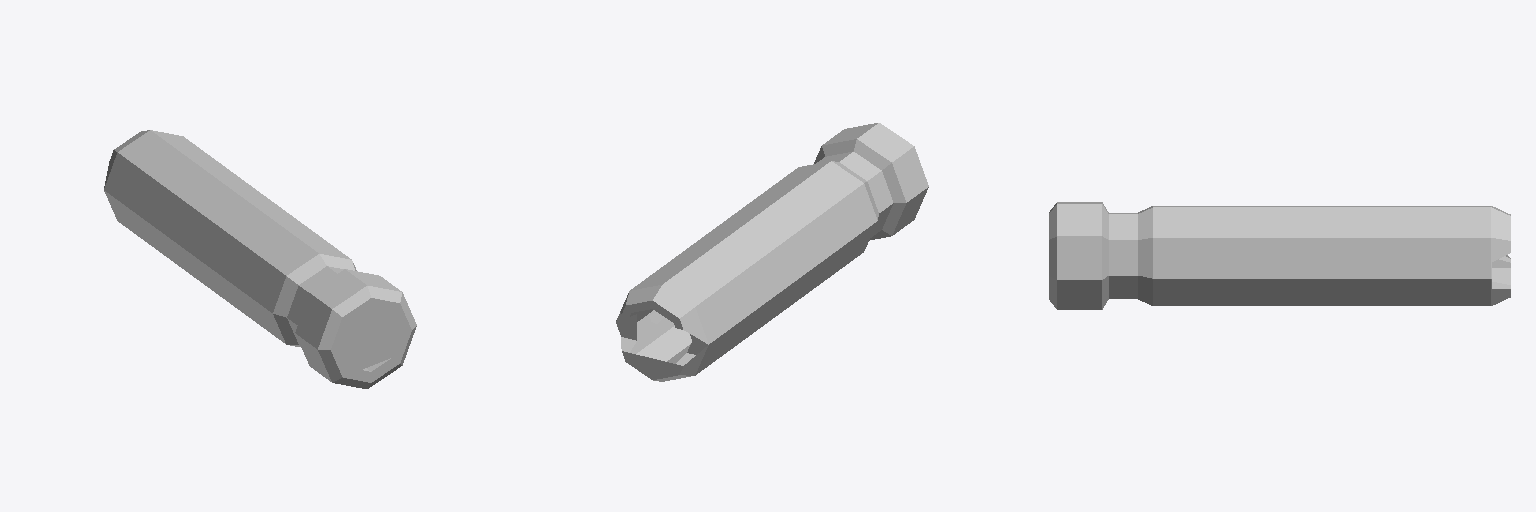
The model's file is Muzzle.obj.
The picture shows the model from 3 angles: view 1: azimuth 30°, elevation 25°; view 2: azimuth 150°, elevation 25°; view 3: azimuth 270°, elevation 25°; orthographic projection.
Visible parts, largest first — view 1: Cylinder.001; view 2: Cylinder.001; view 3: Cylinder.001.
Part boxes in pixels (left/top/right/bottom): Cylinder.001: left=104, top=130, right=416, bottom=388; Cylinder.001: left=616, top=123, right=928, bottom=381; Cylinder.001: left=1049, top=202, right=1510, bottom=309.
Size of the model in its own units: 0.0843 by 0.0843 by 0.3389.